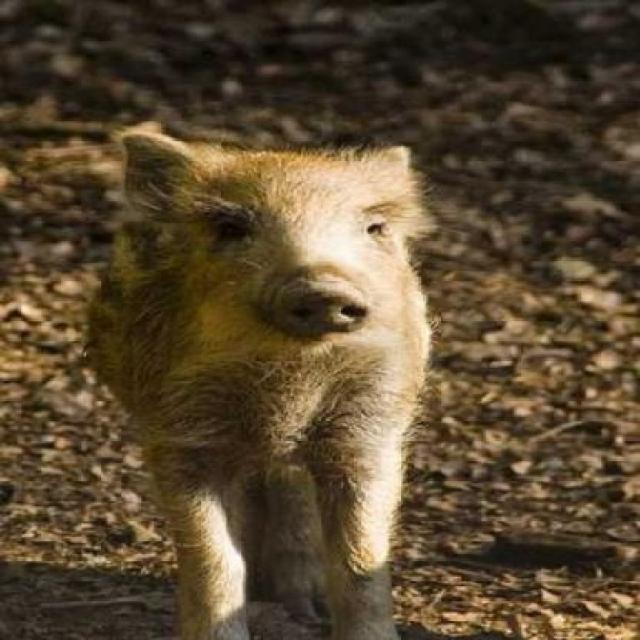pig: (74, 106, 434, 639)
